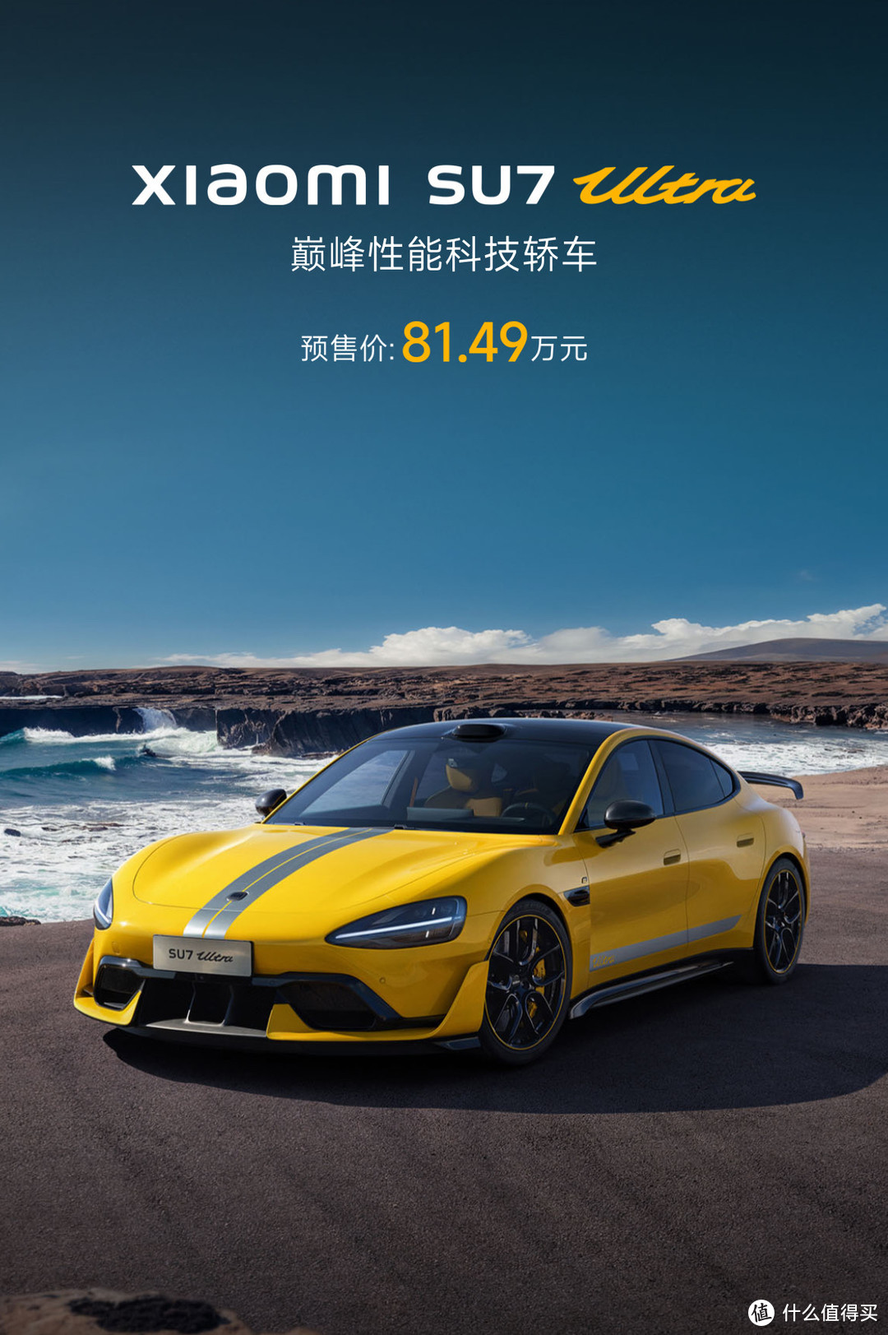su7: (57, 699, 809, 1080)
